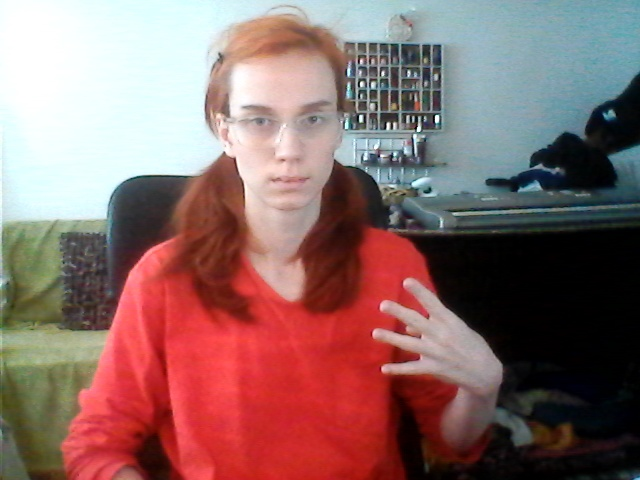styri: (368, 273, 502, 400)
